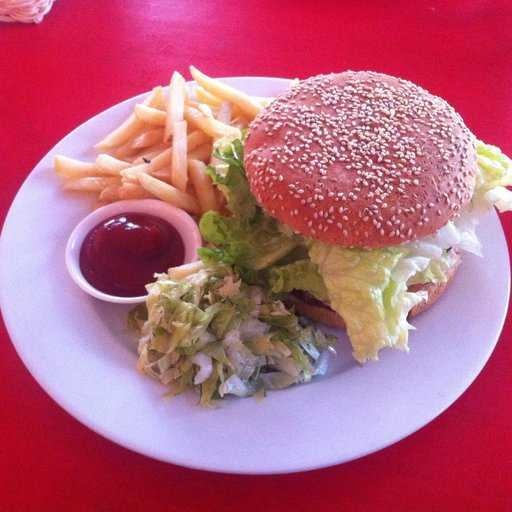hamburger: (223, 60, 482, 320)
